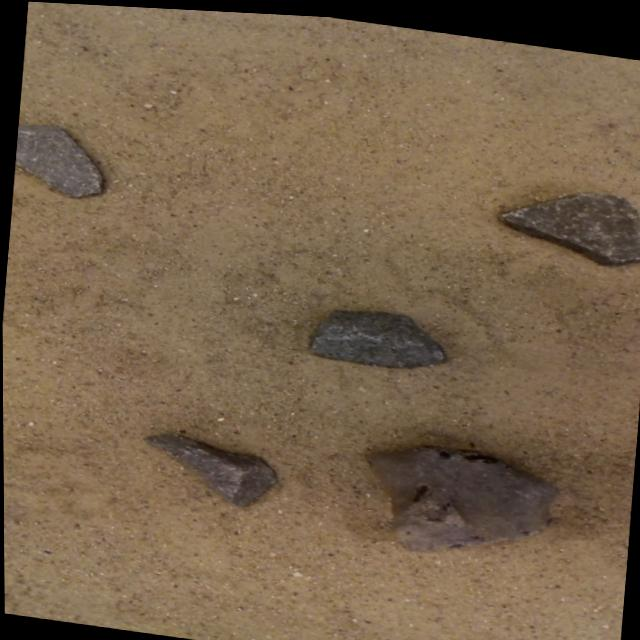rock: (364, 442, 552, 547), (498, 186, 640, 258), (142, 431, 273, 505), (308, 306, 441, 363), (13, 124, 101, 196)
